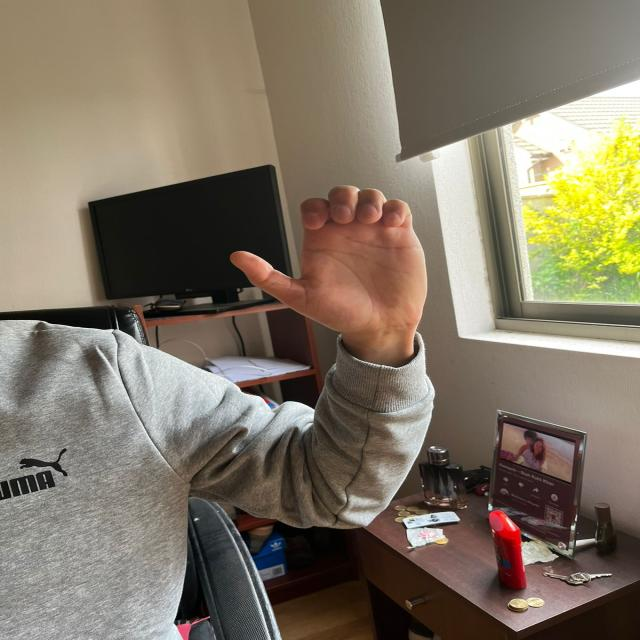E: (225, 182, 444, 348)
